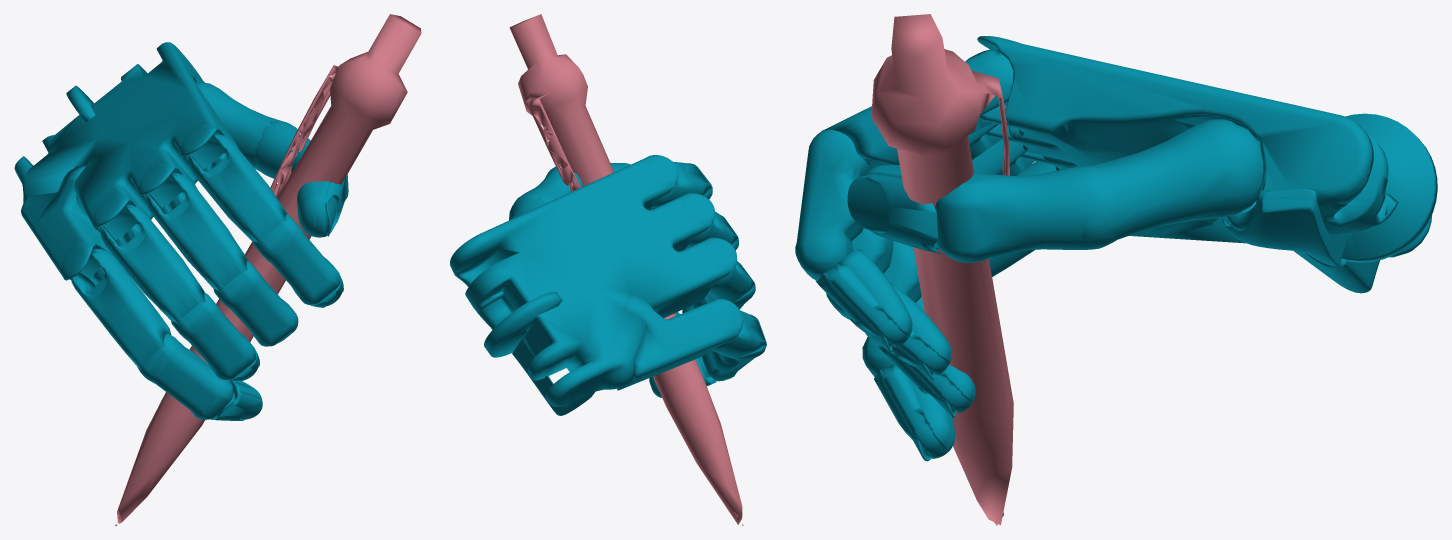
3 renders of one model, left to right at view 1: azimuth 30°, elevation 25°; view 2: azimuth 150°, elevation 25°; view 3: azimuth 270°, elevation 25°, orthographic. The views are drawn at different scales.
Parts seen in each view (by area): view 1: world; view 2: world; view 3: world.
Boxes of the visible parts, left/top/right/bottom form: world: left=14, top=14, right=421, bottom=525; world: left=450, top=14, right=766, bottom=525; world: left=795, top=14, right=1437, bottom=525.
Bounding box in the file's own units: 0.1354 × 0.2 × 0.1682.
